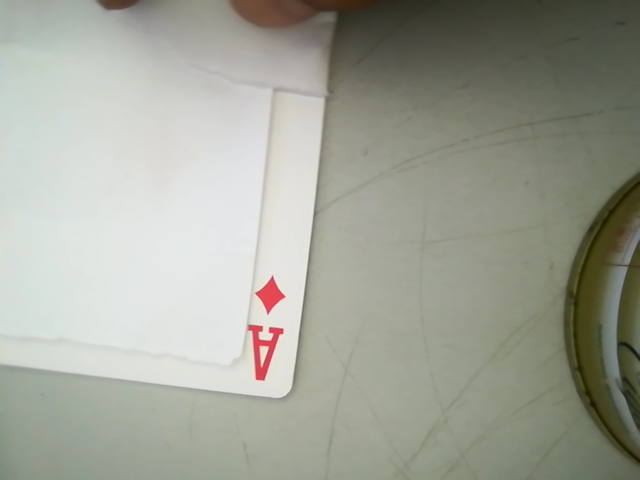fk a: (233, 269, 294, 391)
